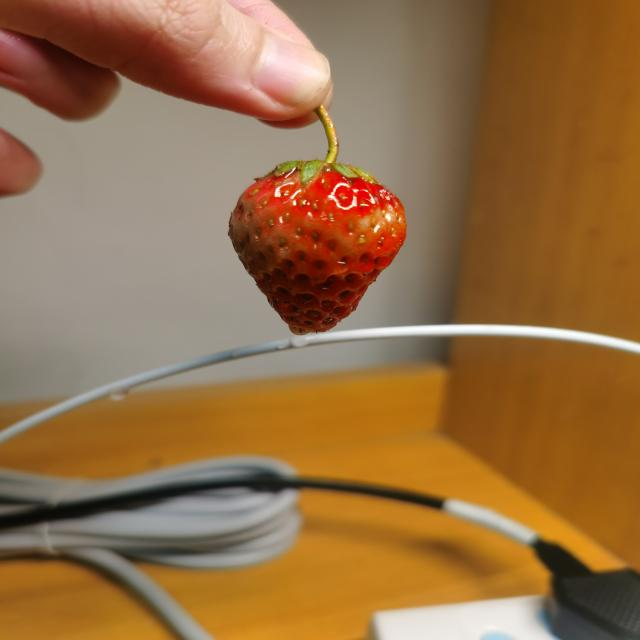stem: (317, 110, 338, 165)
strawberry: (229, 160, 406, 336)
